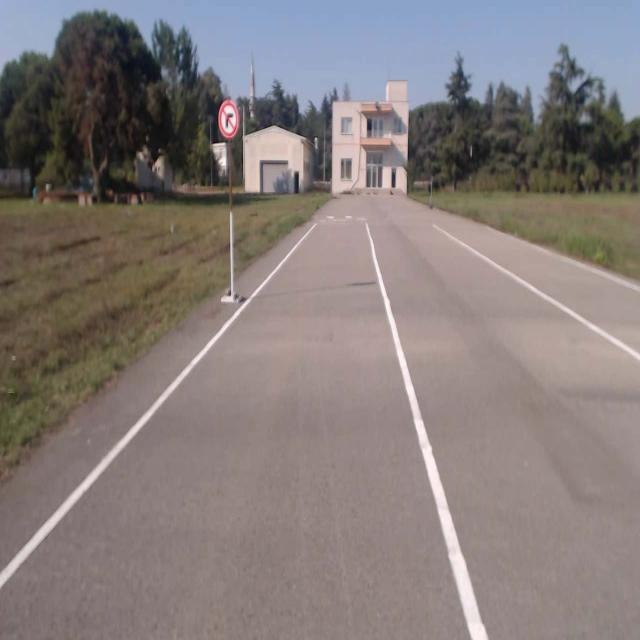sagadonulmez: (218, 99, 239, 138)
